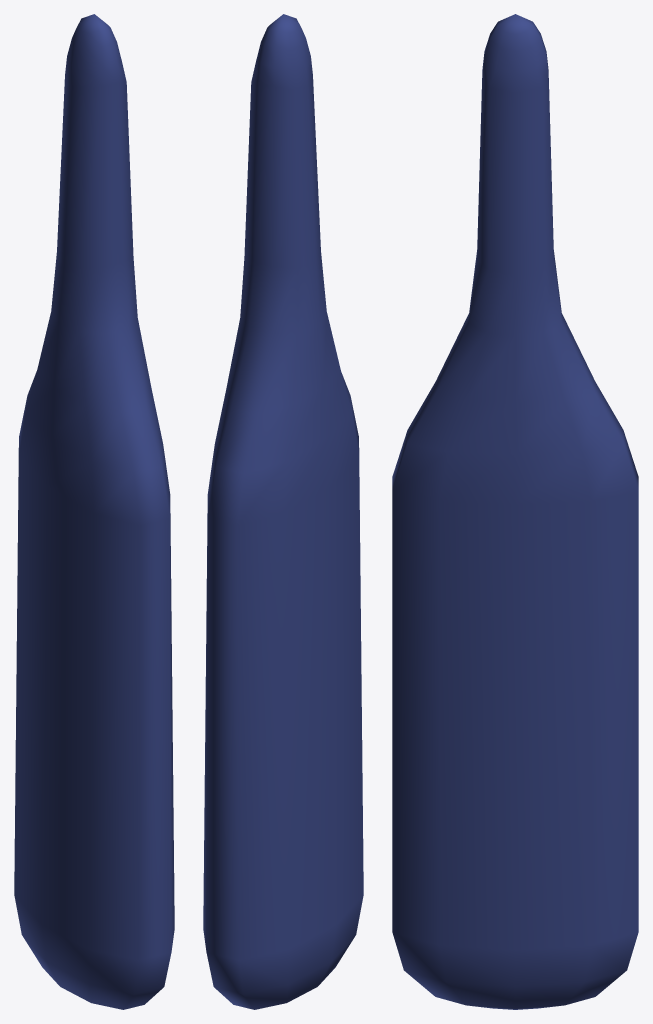
The model's file is thermometre.fbx.
3 views of the same model, side by side, from view 1: azimuth 30°, elevation 25°; view 2: azimuth 150°, elevation 25°; view 3: azimuth 270°, elevation 25° (orthographic).
Parts seen in each view (by area): view 1: thermometre; view 2: thermometre; view 3: thermometre.
Boxes of the visible parts, x1,y1,x2,y2 form: thermometre: (14, 14, 174, 1009); thermometre: (203, 14, 363, 1009); thermometre: (392, 14, 638, 1009).
Bounding box in the file's own units: 0.1043 × 0.9206 × 0.208.
